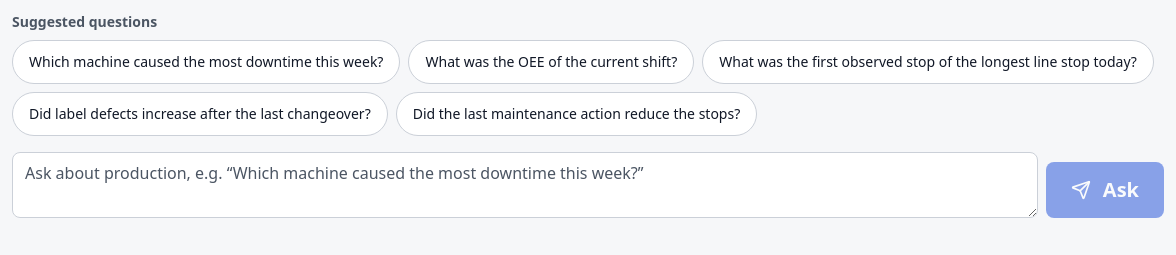
Test case: unavailable states › daily limit refused by the server
The image size is (1176, 255).
Replace the text in the text box named "Your question" with "Again?" at x=525, y=185, box [12,152,1038,218]
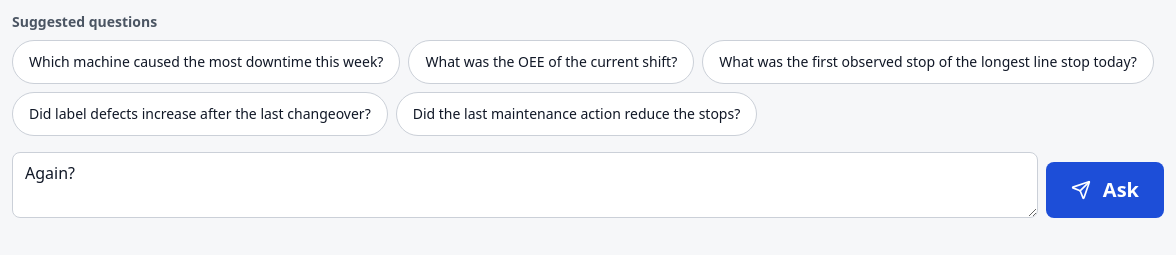
Click the button "Ask" at x=1105, y=190, box [1046,162,1164,218]
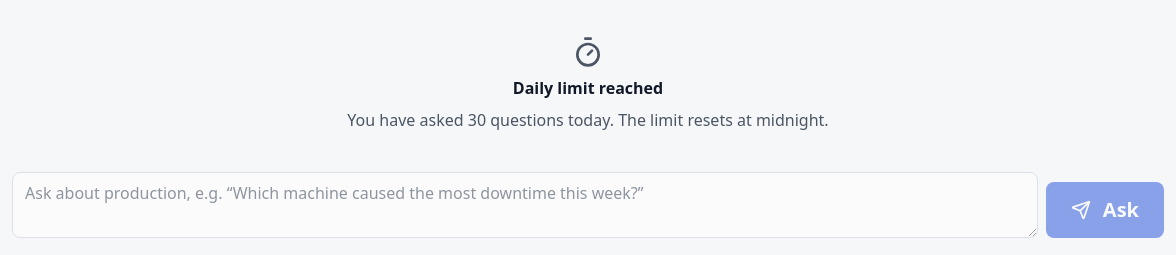
Result: the message with test id "unavailable-daily_limit" is shown at [347,36,829,131]
